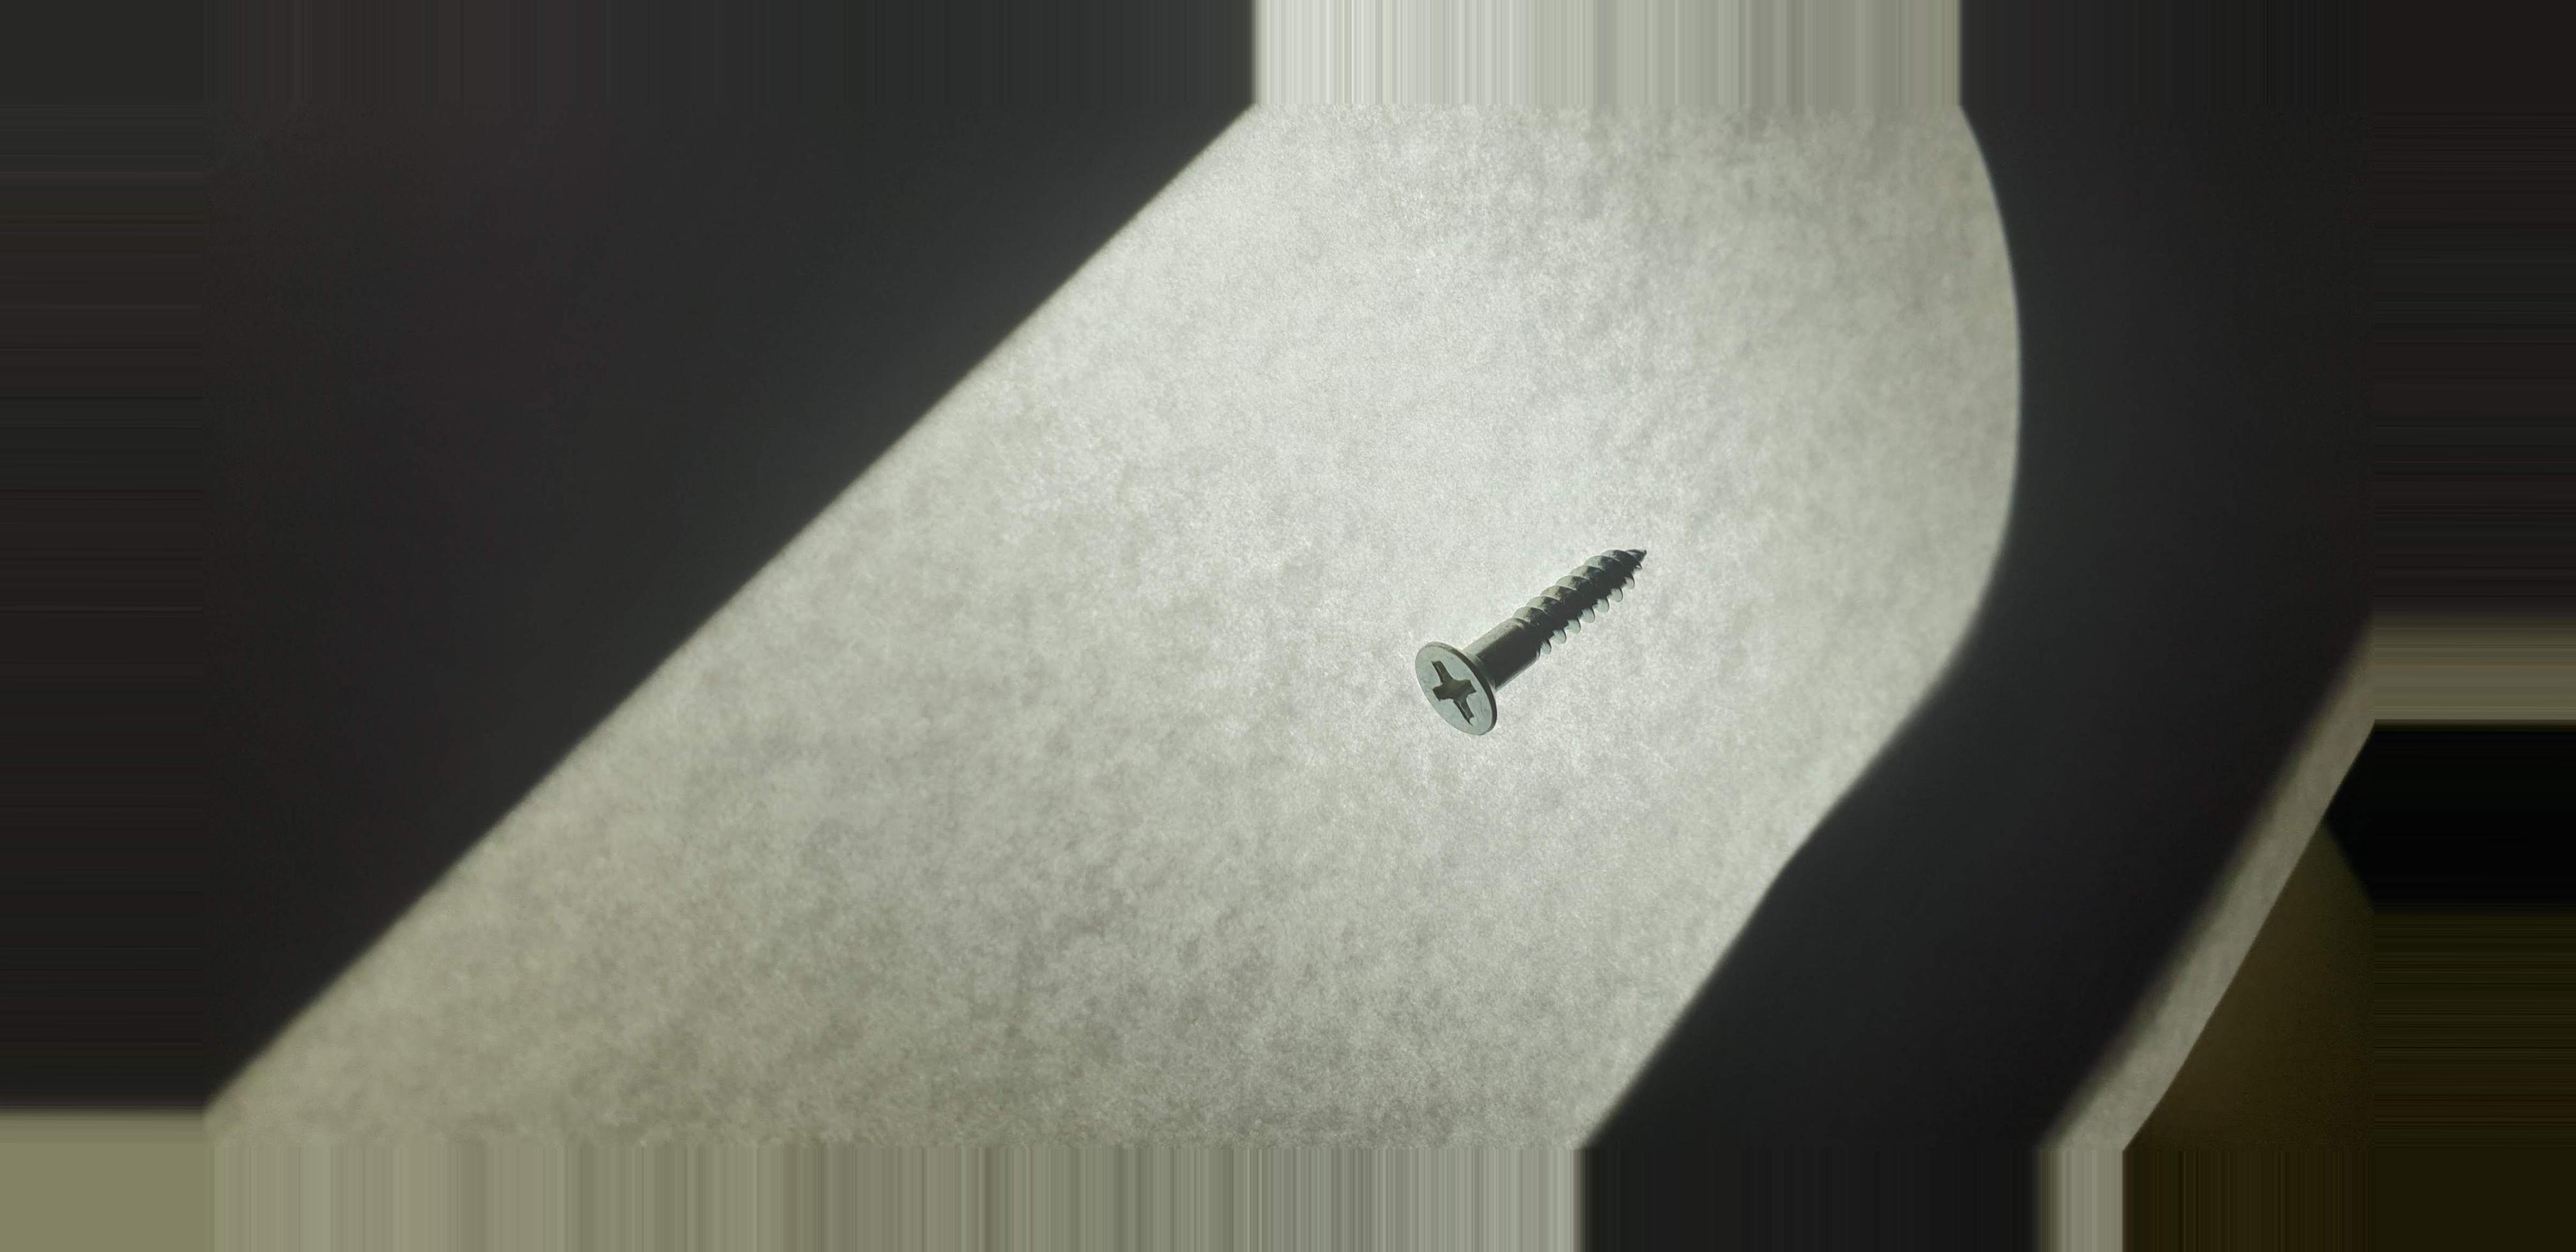S005: (1383, 506, 1712, 771)
